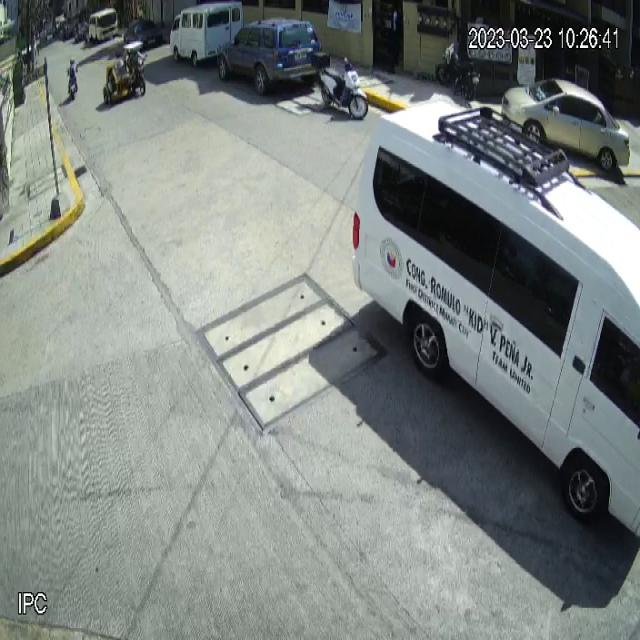Car: (501, 76, 631, 171), (219, 15, 325, 94)
Motorcycle: (312, 48, 369, 120)
Van: (351, 99, 640, 539), (169, 2, 244, 69)
